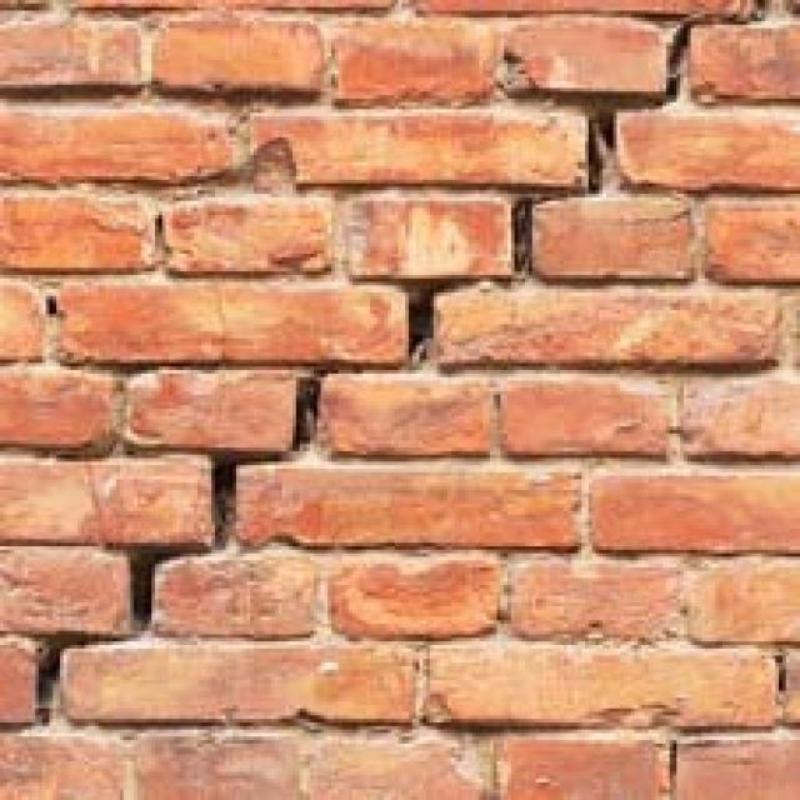crack: (38, 17, 693, 723)
